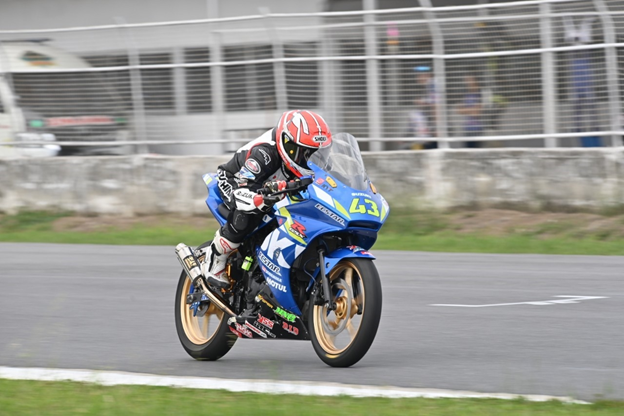helmet: (275, 111, 335, 179)
motorcycle: (174, 134, 382, 373)
